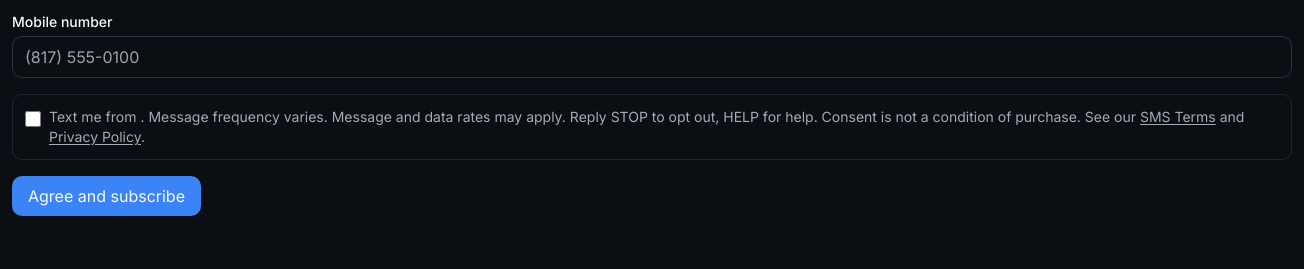
Test case: SmsOptInPageForm (public /sms page) › does not submit until the person checks the box
Type "8175550123" into the field with test id "input-sms-phone".
click(652, 57); type("8175550123")  # box [12, 36, 1292, 78]
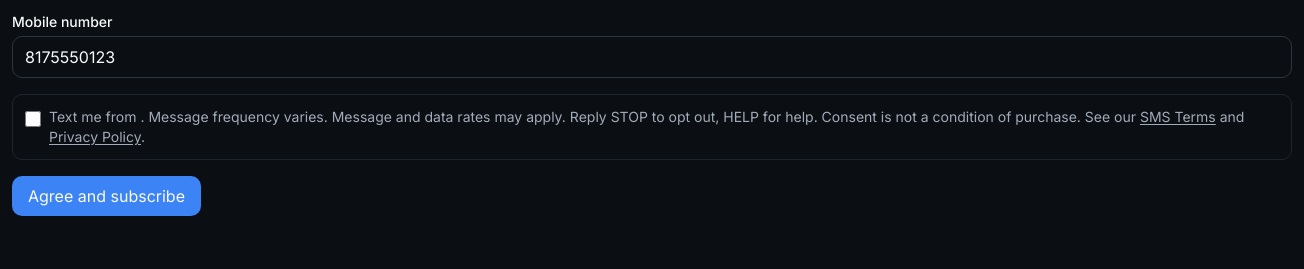
Click the button with test id "btn-sms-opt-in".
click(106, 196)  # box [12, 176, 201, 216]
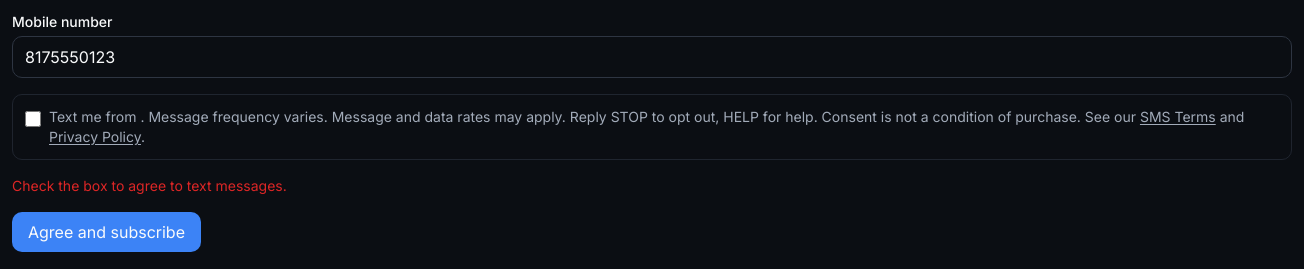
Now the message "Check the box to agree to text messages." is shown, box [12, 177, 287, 194]
